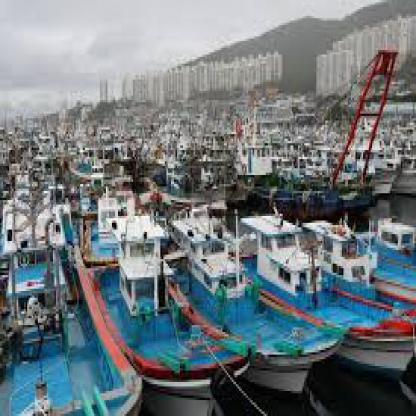fish-b: (72, 214, 256, 409), (166, 202, 348, 398), (0, 209, 148, 414)
